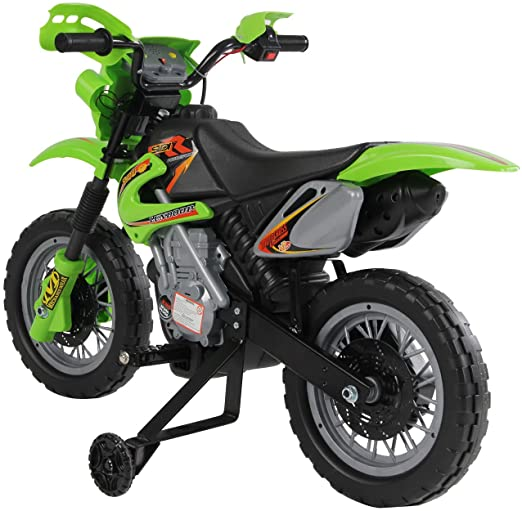motorbike: (3, 2, 521, 509)
